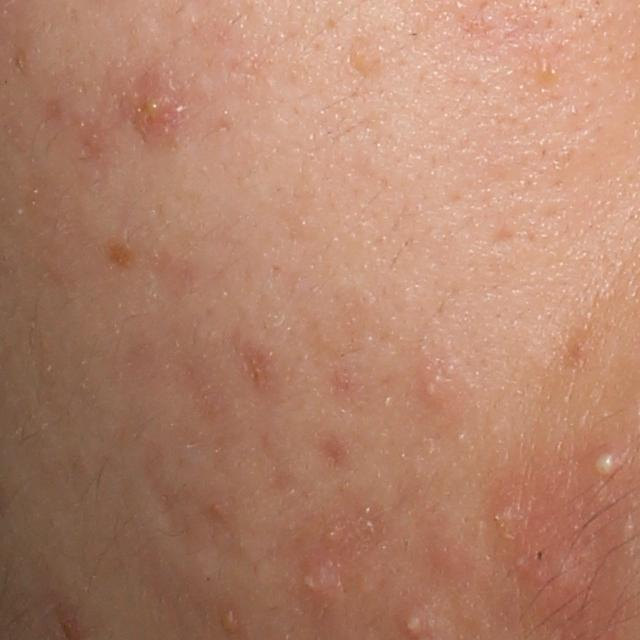atrophic_scar: (485, 224, 514, 256)
comedo: (346, 36, 386, 80)
papule: (480, 494, 601, 598), (217, 603, 244, 639)
pustule: (127, 85, 181, 134), (583, 441, 629, 483), (402, 611, 427, 640)
